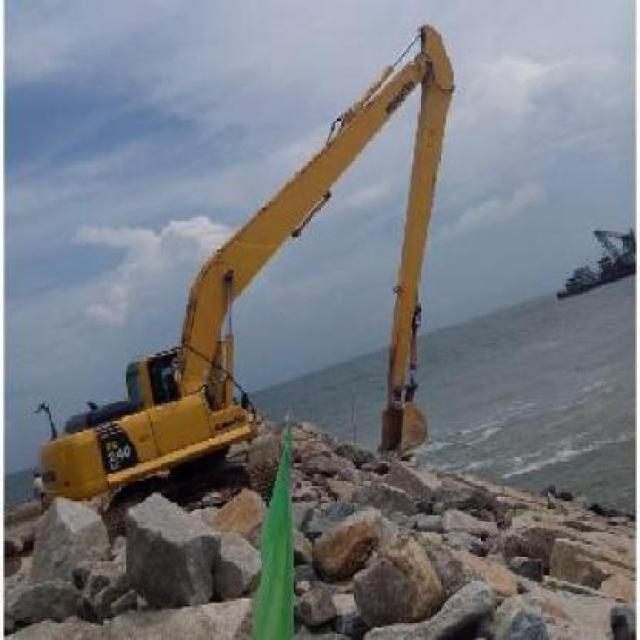excavator: (32, 18, 454, 520)
